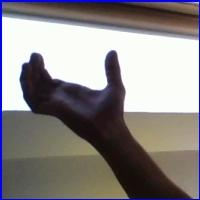space: (14, 44, 136, 135)
